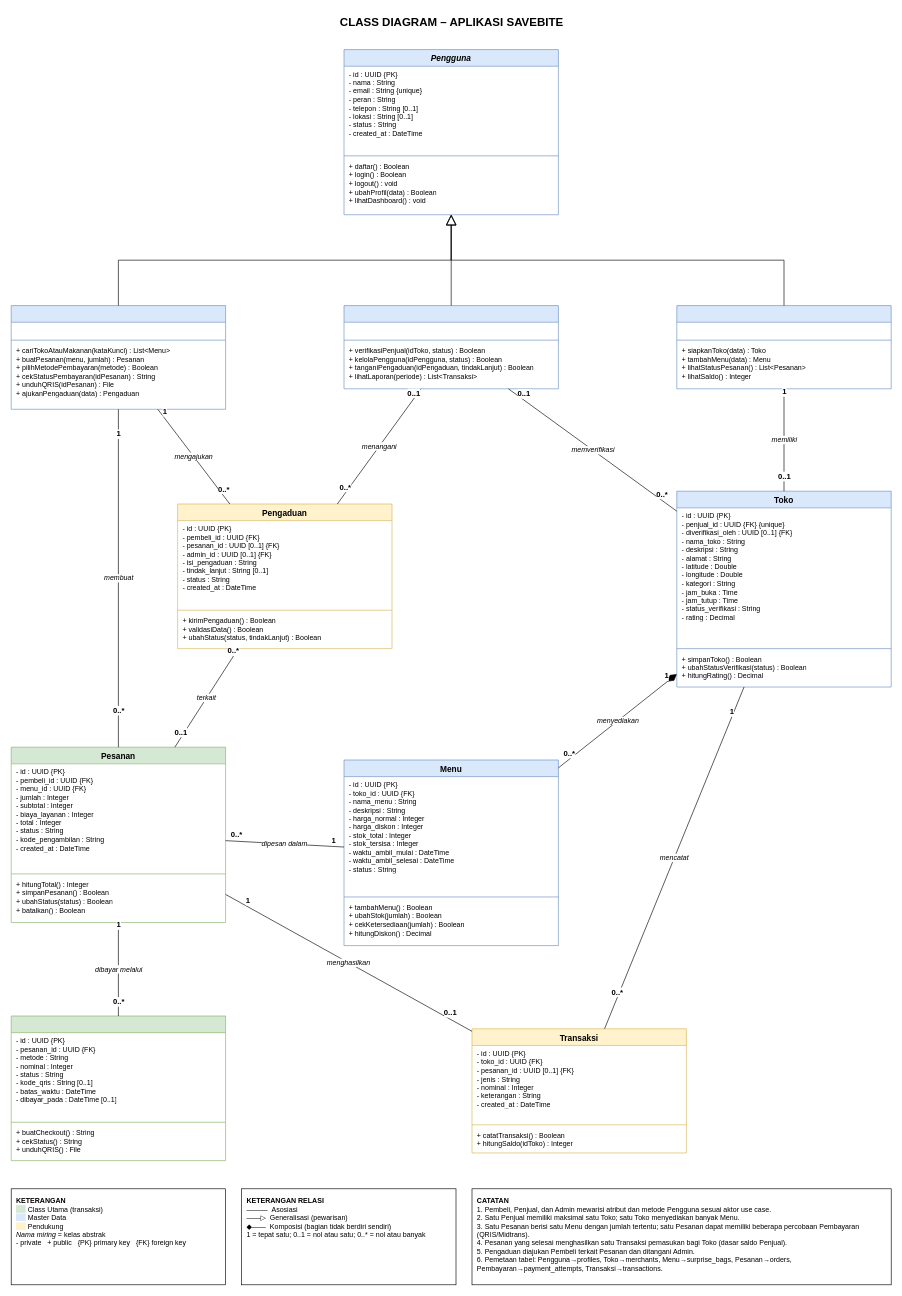
The diagram is 902 pixels wide and 1296 high, and some of its shapes have lost their labels. Here are the shapes that lost their labels. From the top down, the box of each, then its label:
(11, 305, 226, 409): Pembeli
(343, 305, 558, 389): Admin
(676, 305, 891, 389): Penjual
(11, 1015, 226, 1161): Pembayaran
